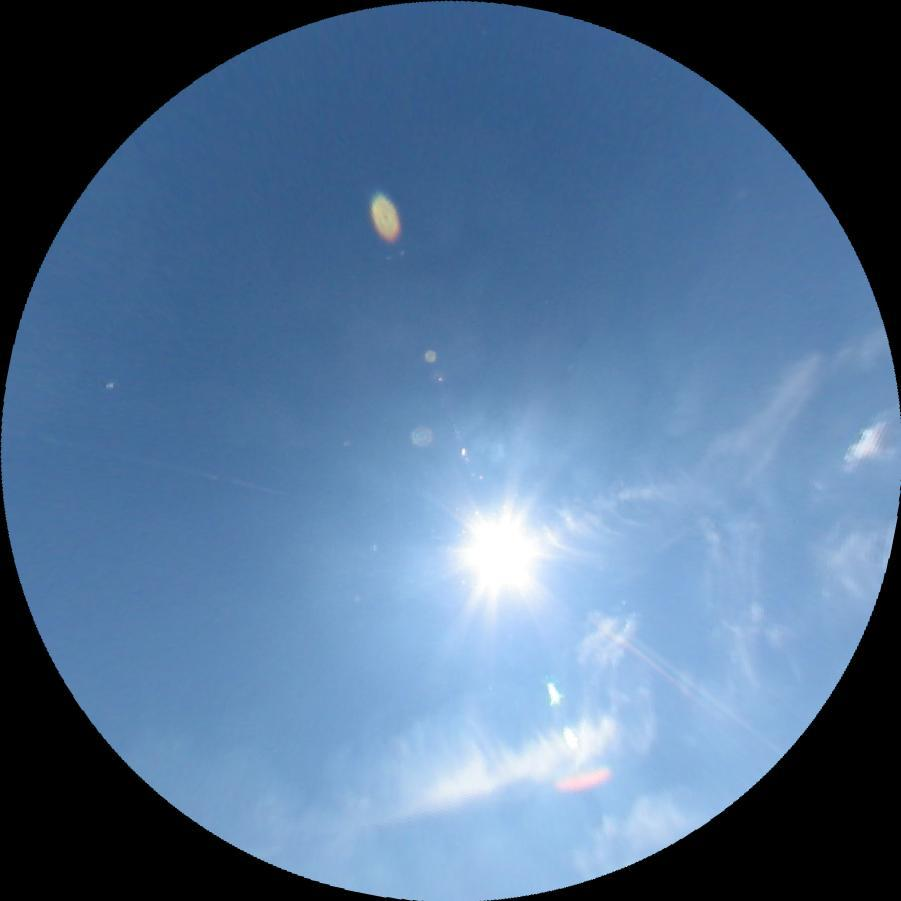parasite: (631, 635, 785, 755), (592, 616, 698, 701)
sun: (470, 524, 530, 580)
